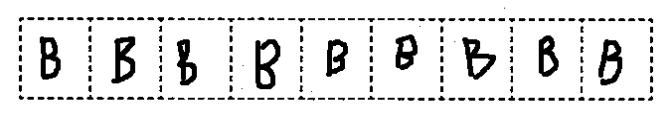B: (454, 33, 501, 83), (246, 36, 284, 93), (106, 32, 140, 88), (169, 34, 203, 89), (593, 33, 626, 89), (531, 32, 567, 81), (318, 34, 354, 82), (389, 28, 423, 76), (34, 33, 63, 85)
